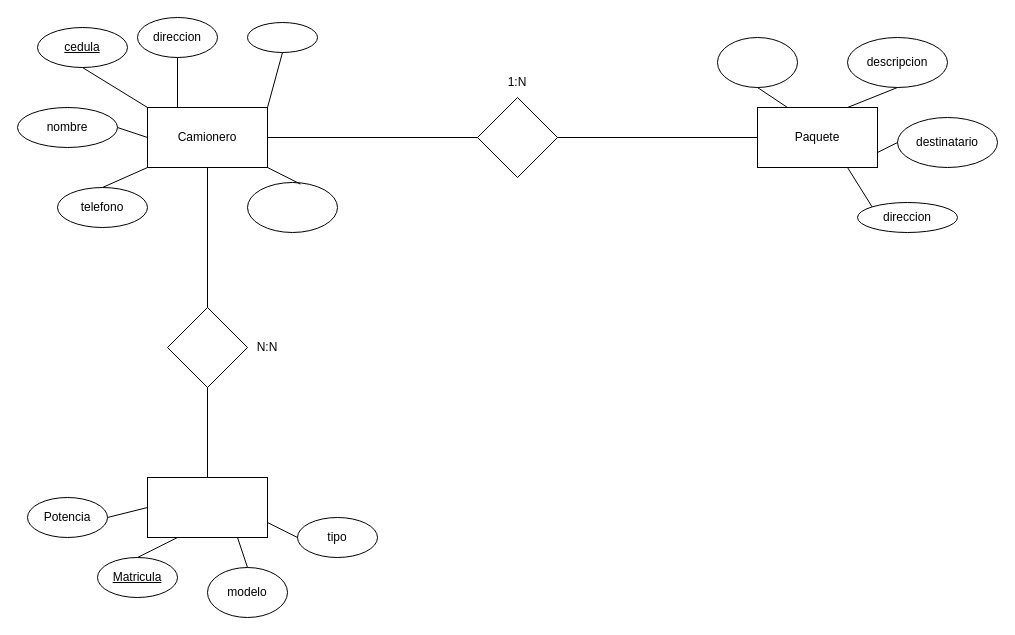
This 1015x635 diagram has some shape labels left out. The shapes that lost their labels are listed below. From the top down, each one's box as (x1, y1, x2, y2) in pixels, then its label:
(246, 22, 318, 52): salario
(716, 36, 798, 88): codigo
(476, 96, 558, 178): distribuir
(246, 182, 338, 232): poblacion
(166, 306, 248, 388): conducir
(146, 476, 268, 538): Camion
